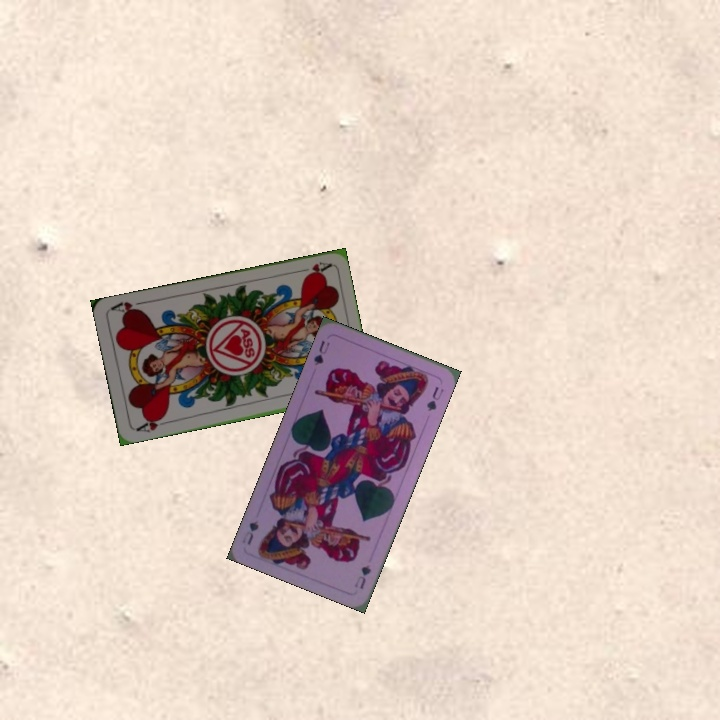GU: (309, 336, 333, 368), (350, 561, 374, 592)
HA: (132, 411, 172, 435), (292, 258, 332, 279)
